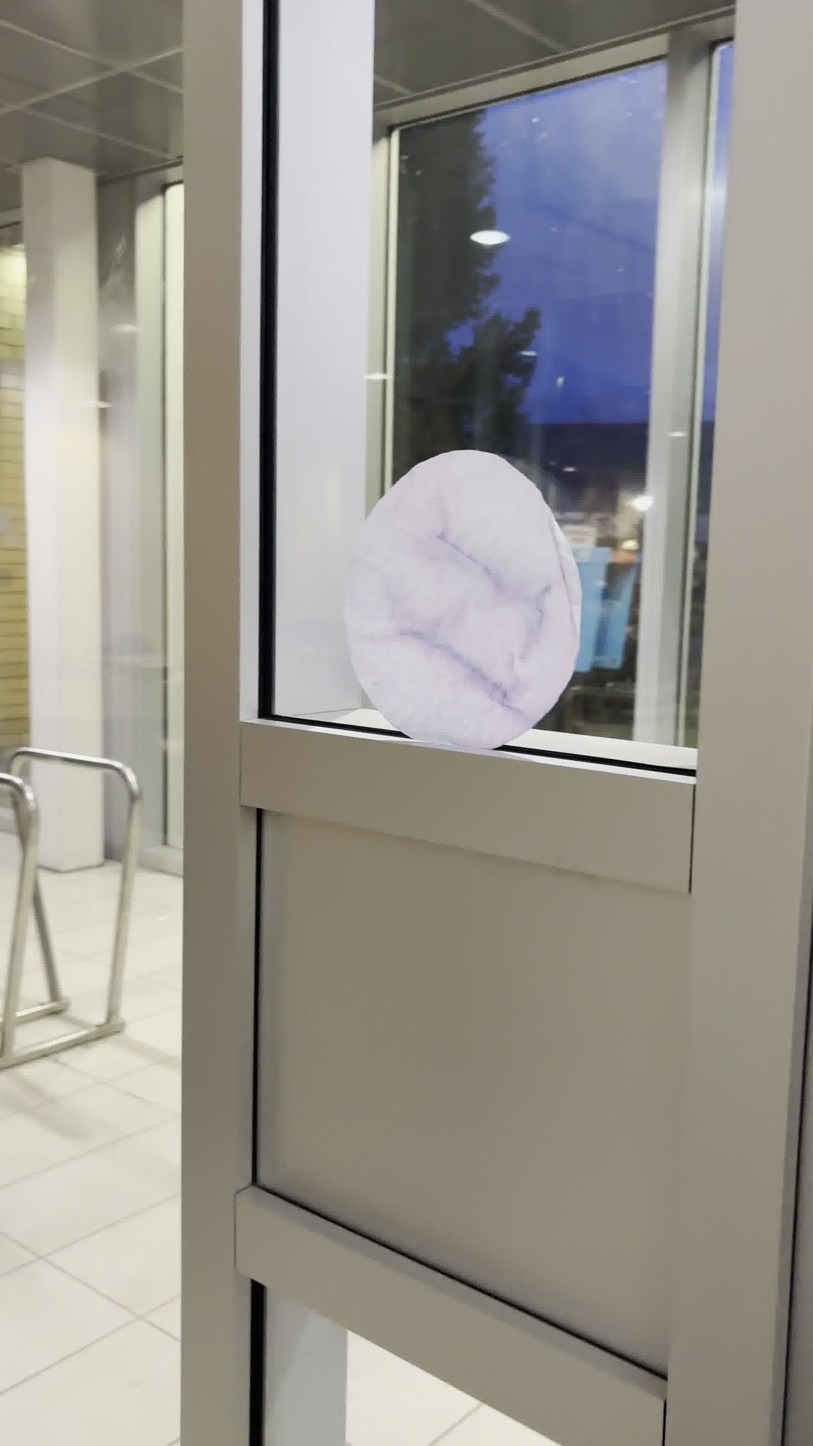Target: (342, 444, 587, 751)
